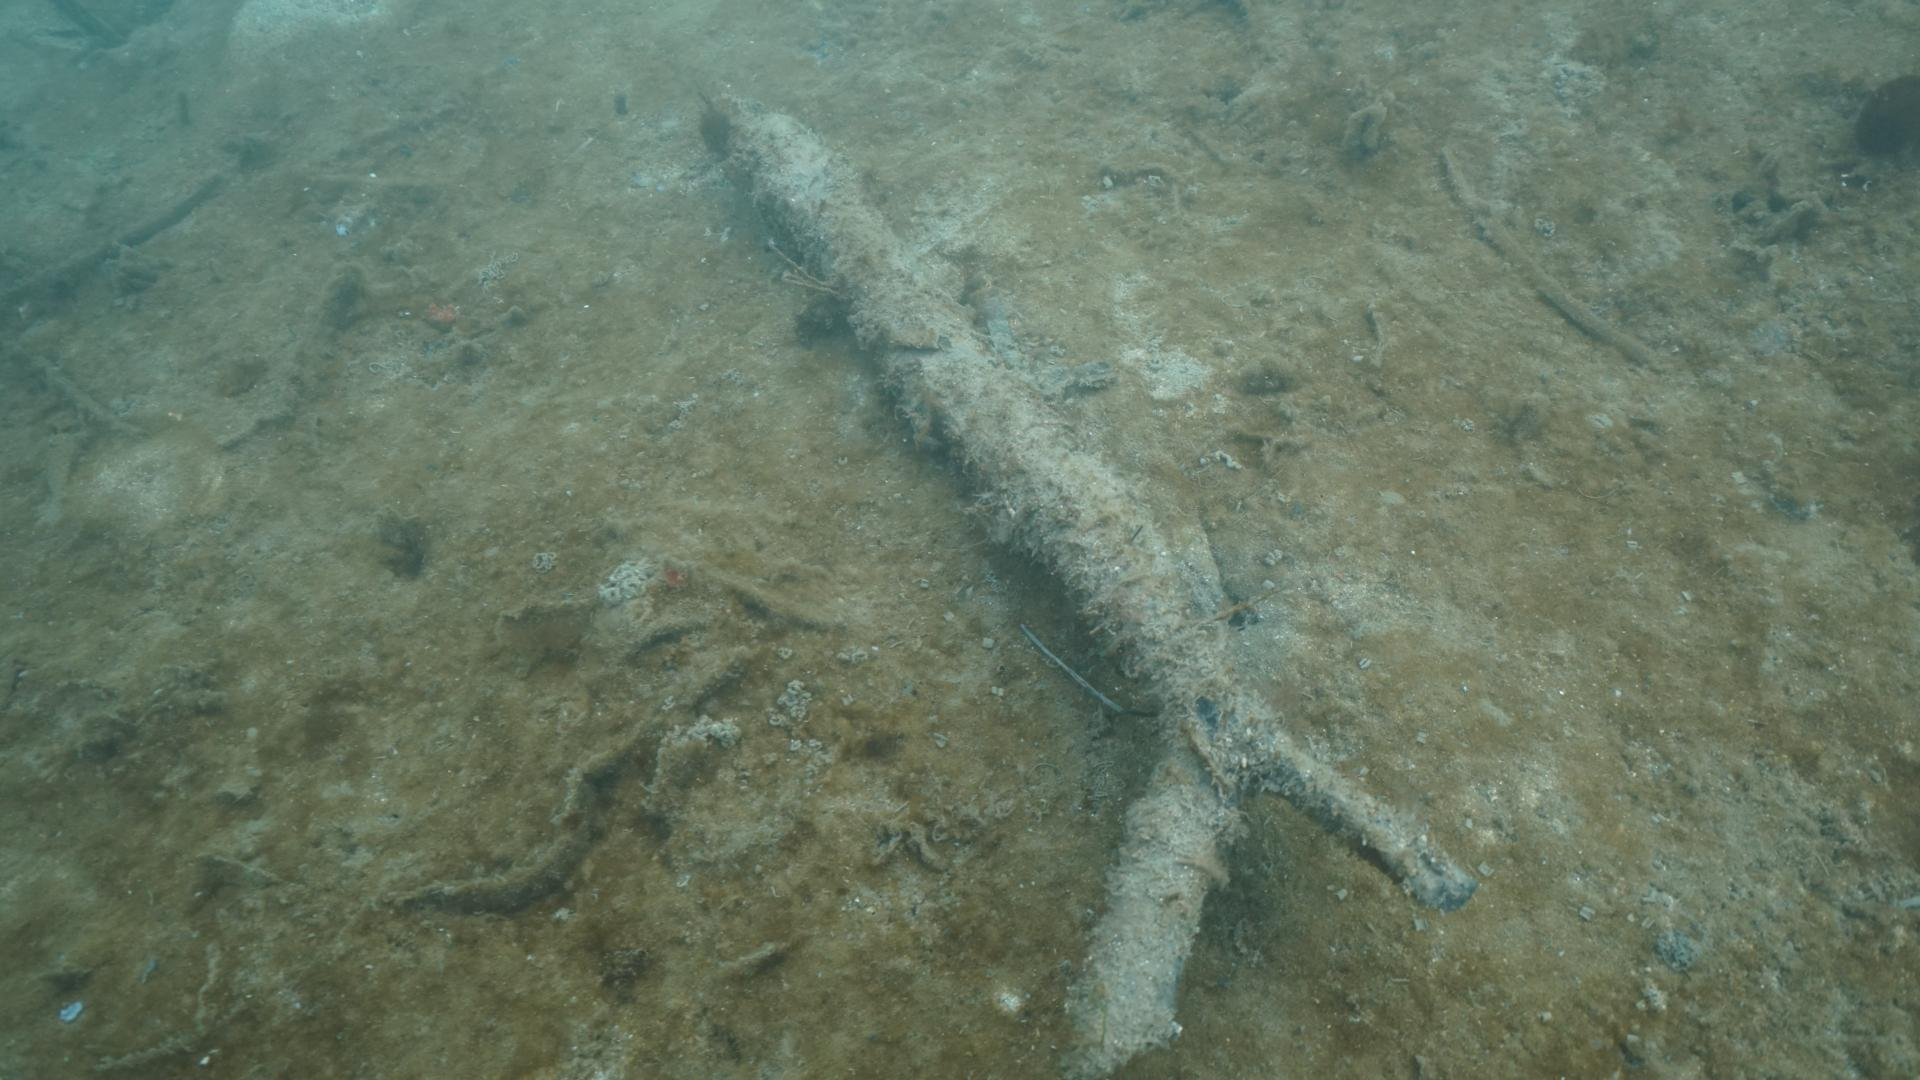wood: (698, 91, 1480, 1080)
